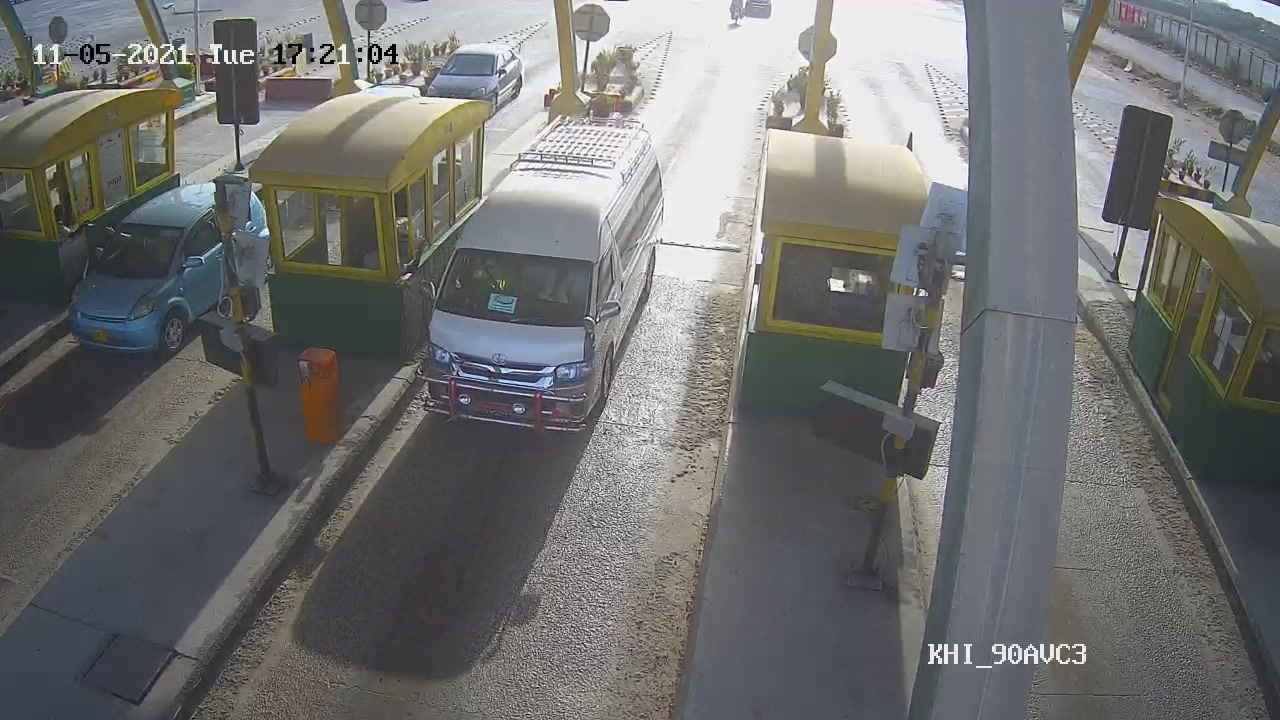F2: (414, 118, 666, 430)
